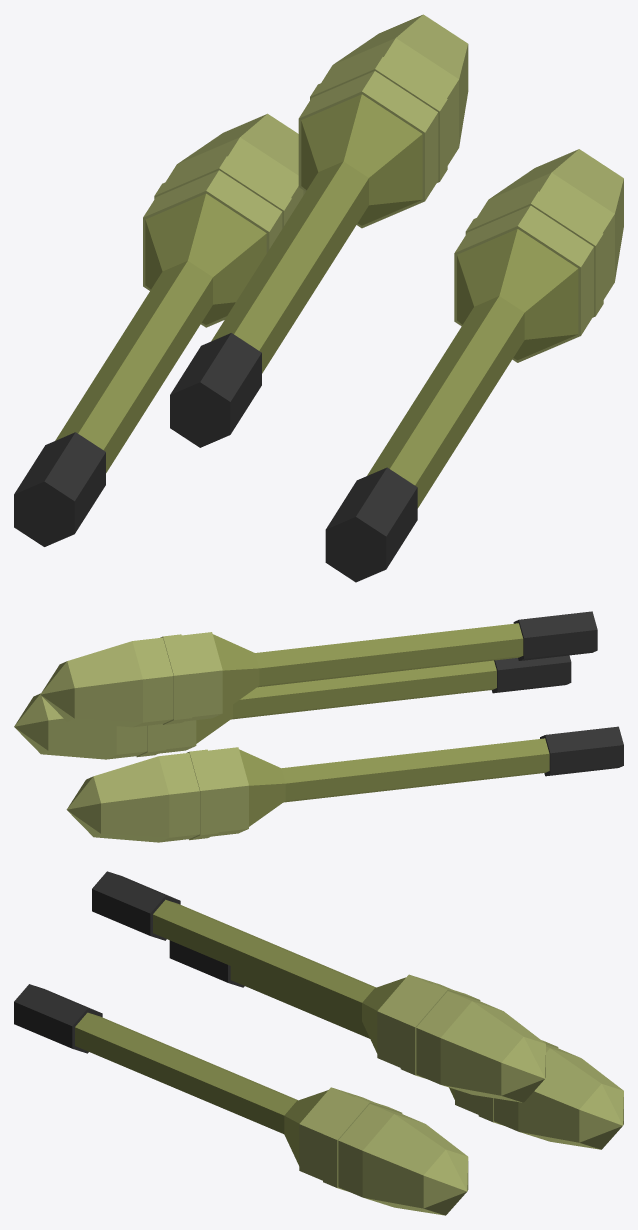
The model's file is ce_ammo2_rpg_heat_b.obj.
The picture shows the model from 3 angles, top to bottom: view 1: azimuth 30°, elevation 25°; view 2: azimuth 150°, elevation 25°; view 3: azimuth 270°, elevation 25°; orthographic projection. The views are drawn at different scales.
Visible parts, largest first — view 1: ce_ammo2_rpg_heat_b_9, ce_ammo2_rpg_heat_b_17, ce_ammo2_rpg_heat_b_1, ce_ammo2_rpg_heat_b_10, ce_ammo2_rpg_heat_b_18, ce_ammo2_rpg_heat_b_2, ce_ammo2_rpg_heat_b_8, ce_ammo2_rpg_heat_b_0, ce_ammo2_rpg_heat_b_16, ce_ammo2_rpg_heat_b_19, ce_ammo2_rpg_heat_b_11, ce_ammo2_rpg_heat_b_3 (+9 smaller); view 2: ce_ammo2_rpg_heat_b_1, ce_ammo2_rpg_heat_b_17, ce_ammo2_rpg_heat_b_9, ce_ammo2_rpg_heat_b_6, ce_ammo2_rpg_heat_b_22, ce_ammo2_rpg_heat_b_16, ce_ammo2_rpg_heat_b_0, ce_ammo2_rpg_heat_b_21, ce_ammo2_rpg_heat_b_5, ce_ammo2_rpg_heat_b_19, ce_ammo2_rpg_heat_b_3, ce_ammo2_rpg_heat_b_14 (+12 smaller); view 3: ce_ammo2_rpg_heat_b_9, ce_ammo2_rpg_heat_b_17, ce_ammo2_rpg_heat_b_14, ce_ammo2_rpg_heat_b_22, ce_ammo2_rpg_heat_b_6, ce_ammo2_rpg_heat_b_8, ce_ammo2_rpg_heat_b_16, ce_ammo2_rpg_heat_b_13, ce_ammo2_rpg_heat_b_21, ce_ammo2_rpg_heat_b_11, ce_ammo2_rpg_heat_b_19, ce_ammo2_rpg_heat_b_15 (+9 smaller).
Boxes of the visible parts, x1,y1,x2,y2 form: ce_ammo2_rpg_heat_b_9: (367, 296, 524, 508); ce_ammo2_rpg_heat_b_17: (211, 161, 368, 373); ce_ammo2_rpg_heat_b_1: (55, 261, 212, 472); ce_ammo2_rpg_heat_b_10: (457, 229, 578, 360); ce_ammo2_rpg_heat_b_18: (301, 94, 422, 225); ce_ammo2_rpg_heat_b_2: (145, 193, 266, 324); ce_ammo2_rpg_heat_b_8: (325, 467, 417, 582); ce_ammo2_rpg_heat_b_0: (14, 432, 105, 546); ce_ammo2_rpg_heat_b_16: (170, 333, 261, 447); ce_ammo2_rpg_heat_b_19: (298, 71, 438, 228); ce_ammo2_rpg_heat_b_11: (454, 205, 593, 362); ce_ammo2_rpg_heat_b_3: (143, 170, 282, 327); ce_ammo2_rpg_heat_b_1: (281, 738, 549, 802); ce_ammo2_rpg_heat_b_17: (255, 623, 523, 687); ce_ammo2_rpg_heat_b_9: (231, 660, 496, 719); ce_ammo2_rpg_heat_b_6: (93, 756, 169, 842); ce_ammo2_rpg_heat_b_22: (67, 641, 142, 727); ce_ammo2_rpg_heat_b_16: (513, 611, 597, 660); ce_ammo2_rpg_heat_b_0: (540, 726, 623, 776); ce_ammo2_rpg_heat_b_21: (132, 637, 173, 727); ce_ammo2_rpg_heat_b_5: (158, 753, 199, 842); ce_ammo2_rpg_heat_b_19: (181, 632, 222, 721); ce_ammo2_rpg_heat_b_3: (208, 747, 248, 836); ce_ammo2_rpg_heat_b_14: (41, 697, 116, 759); ce_ammo2_rpg_heat_b_9: (75, 1012, 297, 1133); ce_ammo2_rpg_heat_b_17: (153, 899, 375, 1021); ce_ammo2_rpg_heat_b_14: (362, 1114, 467, 1215); ce_ammo2_rpg_heat_b_22: (440, 1001, 545, 1102); ce_ammo2_rpg_heat_b_6: (518, 1048, 623, 1149); ce_ammo2_rpg_heat_b_8: (14, 984, 102, 1053); ce_ammo2_rpg_heat_b_16: (92, 871, 180, 940); ce_ammo2_rpg_heat_b_13: (338, 1104, 424, 1197); ce_ammo2_rpg_heat_b_21: (416, 991, 501, 1084); ce_ammo2_rpg_heat_b_11: (299, 1087, 372, 1180); ce_ammo2_rpg_heat_b_19: (377, 974, 450, 1067); ce_ammo2_rpg_heat_b_15: (423, 1149, 468, 1215).
Size of the model in its own units: 0.8861 by 0.282 by 0.8861.
